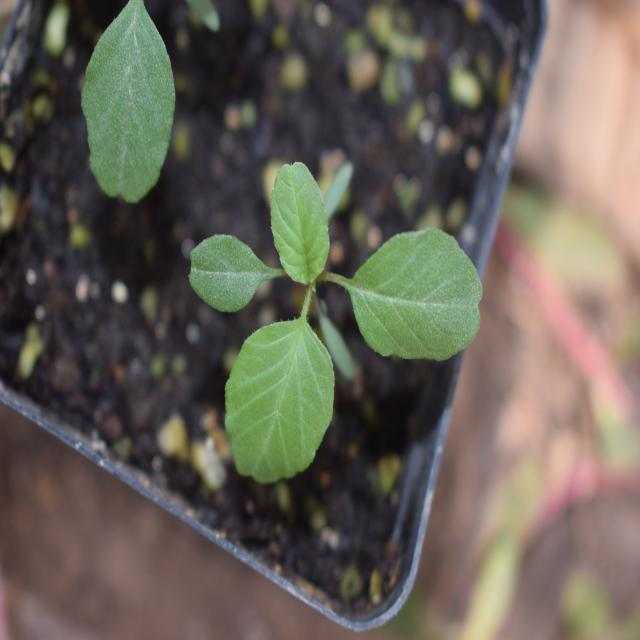pigweed: (198, 170, 475, 500)
